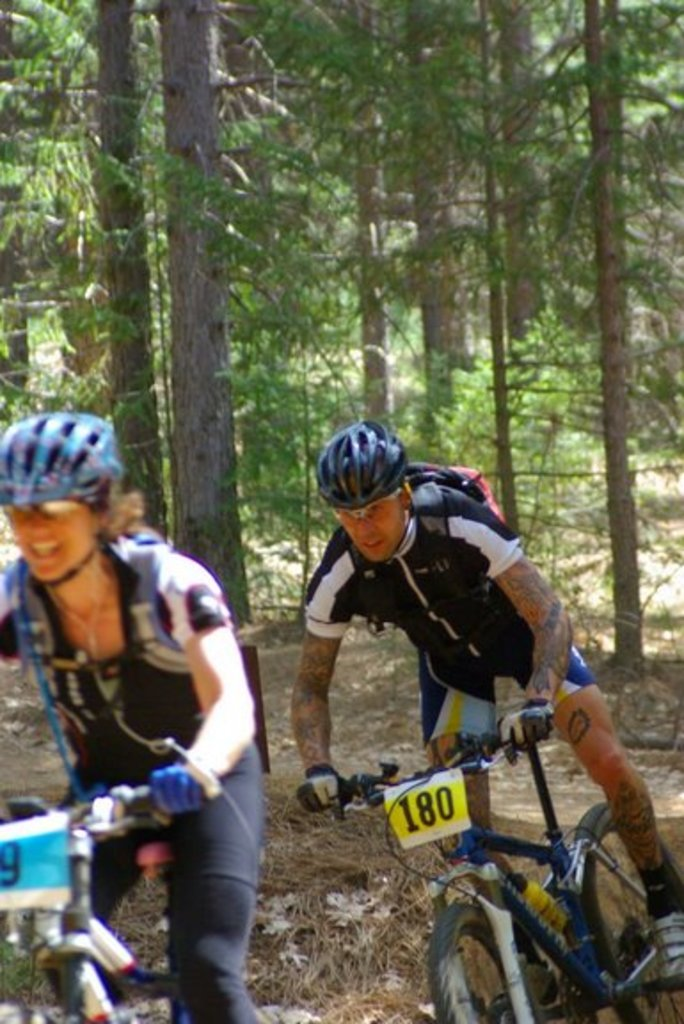Tree: (0, 0, 684, 695)
